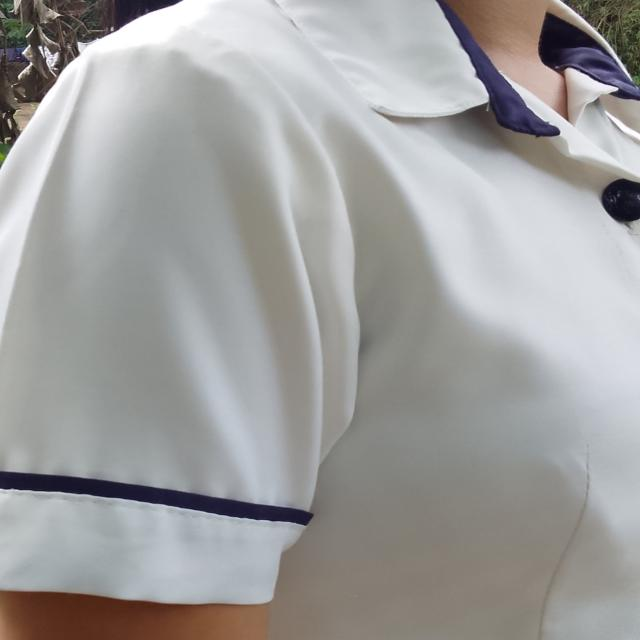education_female_uniform: (6, 14, 639, 640)
